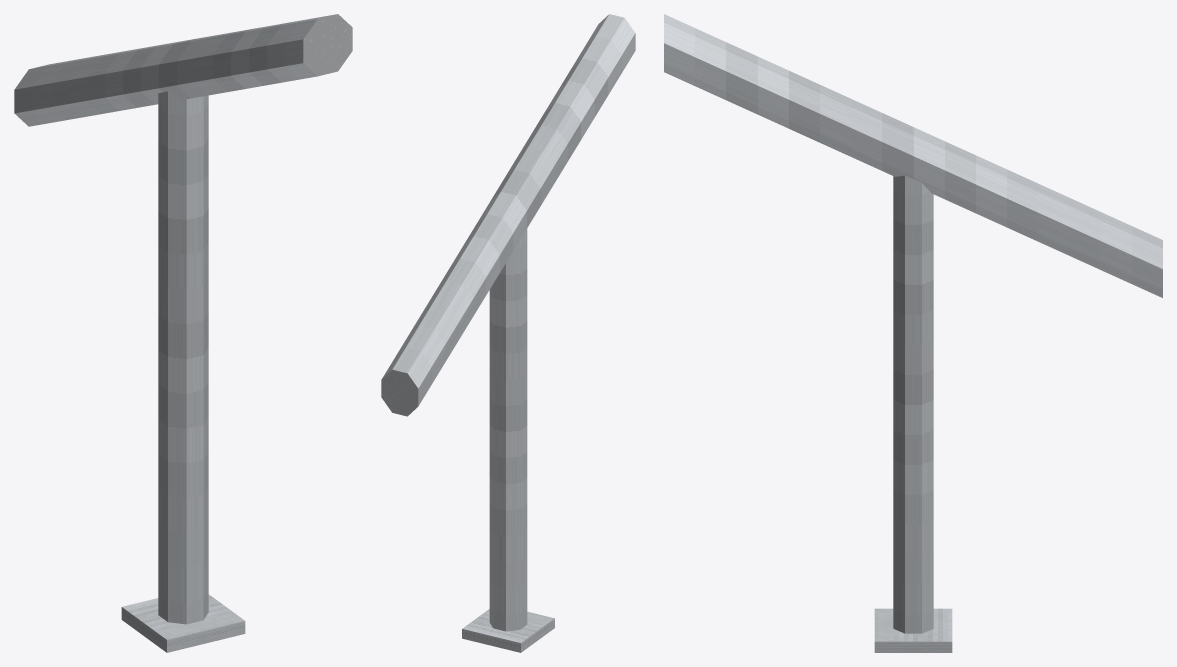
File: handrail_shallow_low.obj
The picture shows the model from 3 angles, left to right: view 1: azimuth 30°, elevation 25°; view 2: azimuth 150°, elevation 25°; view 3: azimuth 270°, elevation 25°; orthographic projection. The views are drawn at different scales.
Visible parts, largest first — view 1: handrail_shallow_low; view 2: handrail_shallow_low; view 3: handrail_shallow_low.
Boxes of the visible parts, x1=… form: handrail_shallow_low: x1=14, y1=14, x2=352, y2=652; handrail_shallow_low: x1=381, y1=14, x2=635, y2=652; handrail_shallow_low: x1=664, y1=14, x2=1162, y2=652.
Bounding box in the file's own units: 0.1562 × 1.37 × 1.
